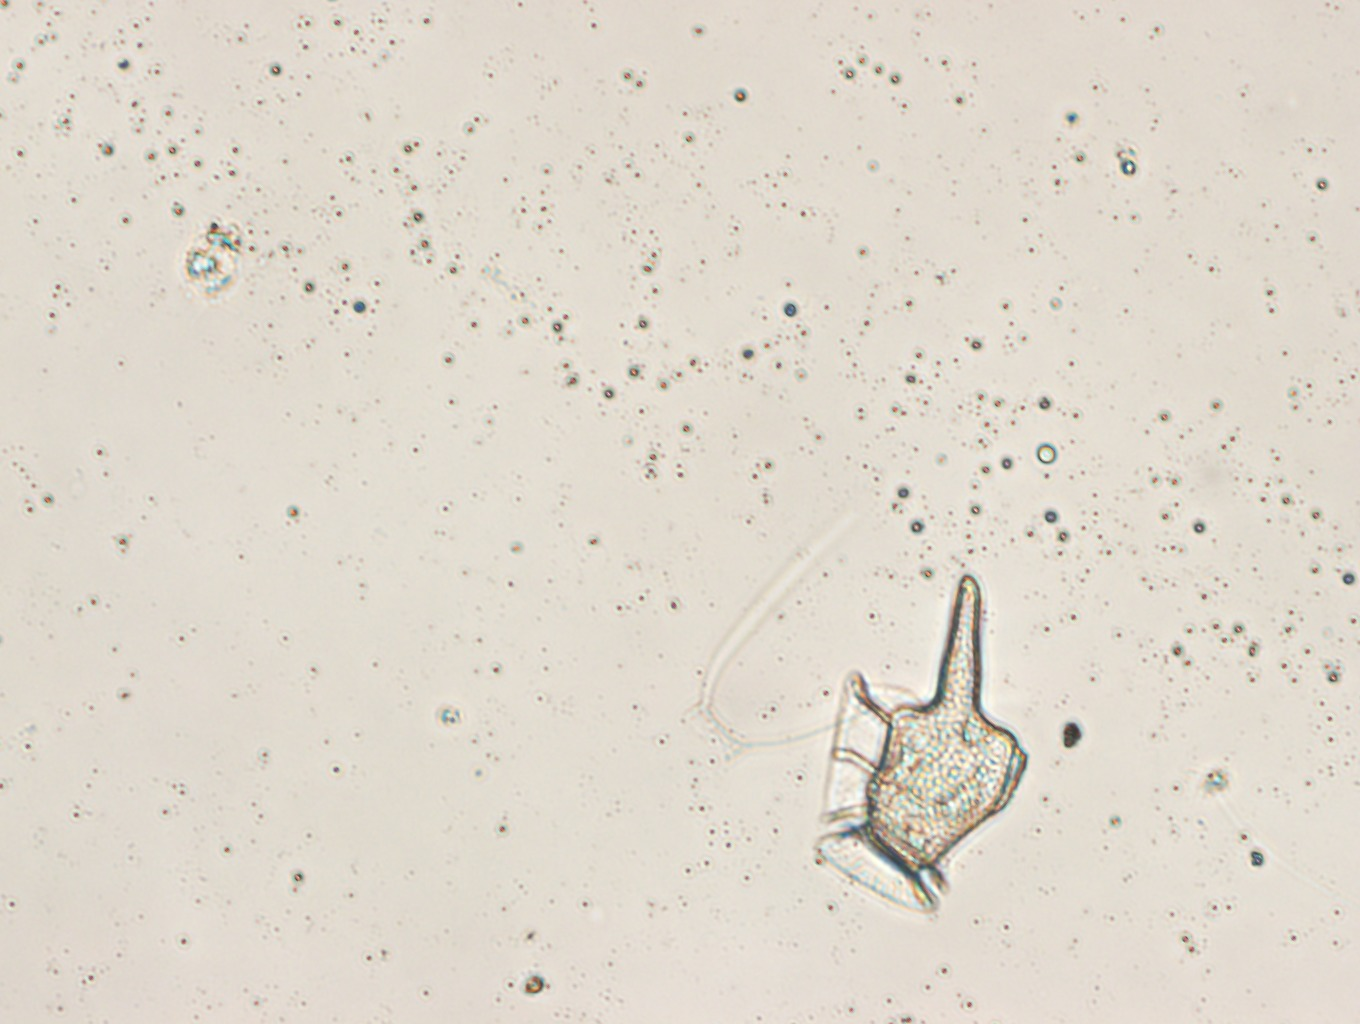dinophysis caudata: (814, 573, 1029, 915)
